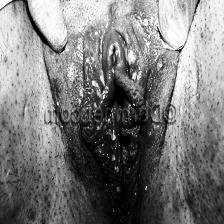Toxin: (81, 16, 161, 96), (102, 131, 154, 220)
